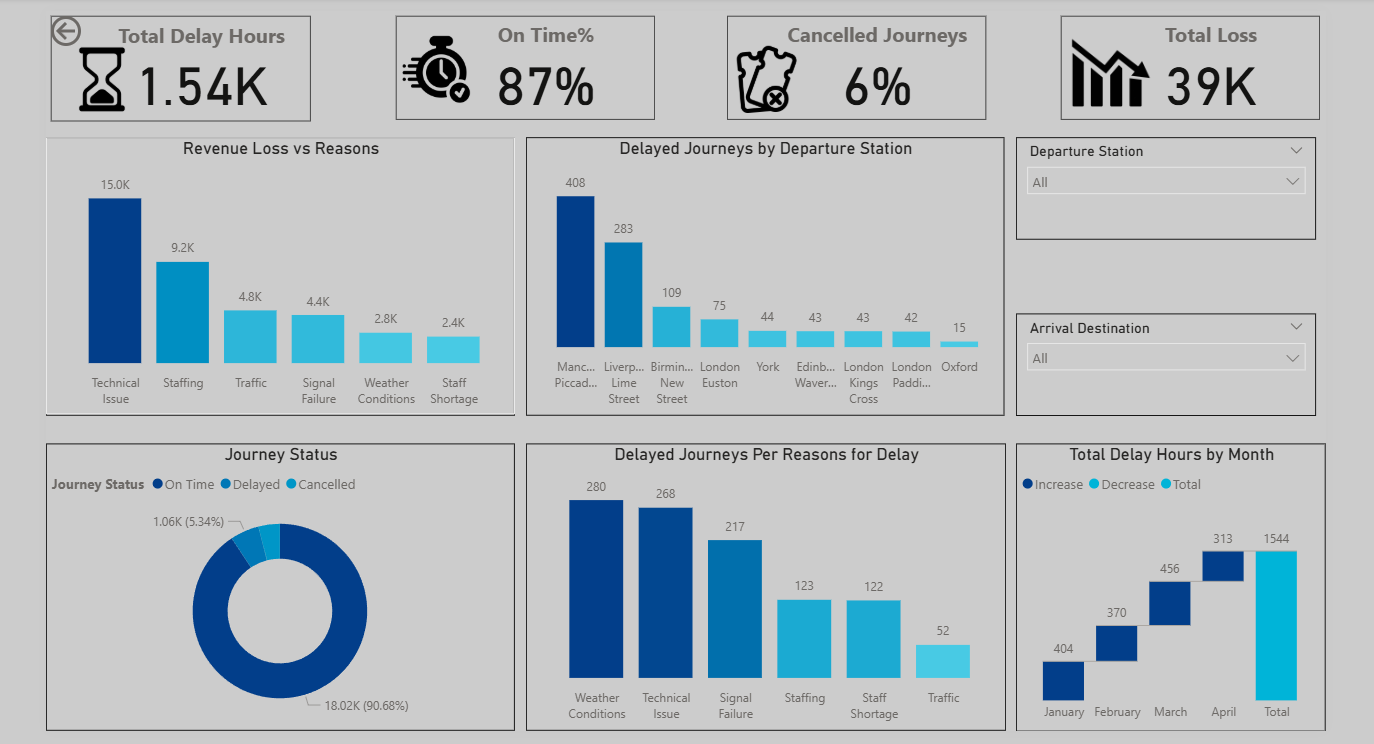

The page's visual inventory and layout, read from the dashboard file:
{"tool":"powerbi","page":{"name":"Operational Performance","canvas":[1280,720],"ordinal":2},"visuals":[{"type":"cardVisual","fields":{"Data":["_Measure.Total Delay Hours"]},"box":[0,0,270,115],"z":0},{"type":"cardVisual","fields":{"Data":["_Measure.% Cancelled Journeys"]},"box":[676.1,0,269.7,114.7],"z":1000},{"type":"cardVisual","fields":{"Data":["_Measure.Total Refund Price"]},"box":[1010.5,0,269.7,114.7],"z":2000},{"type":"columnChart","title":"Revenue Loss vs Reasons","fields":{"Category":["Last.Reason for Delay"],"Y":["_Measure.Total Refund Price"]},"box":[0,125.7,468.7,278.3],"z":3000},{"type":"waterfallChart","fields":{"Y":["_Measure.Total Delay Hours"],"Category":["Last.Date of Journey.Variation.Date Hierarchy.Month"]},"box":[970.3,432,310,288],"z":4000},{"type":"columnChart","title":"Delayed Journeys Per Reasons for Delay","fields":{"Category":["Last.Reason for Delay"],"Y":["_Measure.Delayed Journeys"]},"box":[479.6,432,479.6,286.8],"z":5000},{"type":"donutChart","title":"Journey Status","fields":{"Category":["Last.Journey Status"],"Y":["Count(Last.Journey ID)"]},"box":[0,432,468.7,286.8],"z":6000},{"type":"columnChart","fields":{"Category":["Last.Departure Station"],"Y":["_Measure.Delayed Journeys"]},"box":[479.6,125.7,478.4,278.3],"z":7000},{"type":"cardVisual","fields":{"Data":["Last.On Time%"]},"box":[345.4,0,269.7,114.7],"z":8000},{"type":"image","box":[345.4,8.5,90.3,98.9],"z":9000},{"type":"image","box":[0,30.5,112.3,76.9],"z":10000},{"type":"slicer","fields":{"Values":["Last.Departure Station"]},"box":[970.3,125.7,300.2,102.5],"z":11000},{"type":"slicer","fields":{"Values":["Last.Arrival Destination"]},"box":[970.3,302.7,300.2,102],"z":12000},{"type":"actionButton","box":[0,0,100,40],"z":13000},{"type":"image","box":[676.1,30.5,89.1,76.9],"z":14000},{"type":"image","box":[914.1,0,300.2,126.9],"z":15000}]}

Visuals, with their boxes on the page's 1280x720 design canvas (x1, y1, x2, y2). These are canvas units, not pixel positions in the 1374x744 screenshot, which may show the page scaled, cropped or inside an application window:
cardVisual - _Measure.Total Delay Hours: crop(0, 0, 270, 115)
cardVisual - _Measure.% Cancelled Journeys: crop(676, 0, 946, 115)
cardVisual - _Measure.Total Refund Price: crop(1010, 0, 1280, 115)
"Revenue Loss vs Reasons" columnChart: crop(0, 126, 469, 404)
waterfallChart - _Measure.Total Delay Hours x Last.Date of Journey.Variation.Date Hierarchy.Month: crop(970, 432, 1280, 720)
"Delayed Journeys Per Reasons for Delay" columnChart: crop(480, 432, 959, 719)
"Journey Status" donutChart: crop(0, 432, 469, 719)
columnChart - Last.Departure Station x _Measure.Delayed Journeys: crop(480, 126, 958, 404)
cardVisual - Last.On Time%: crop(345, 0, 615, 115)
image: crop(345, 8, 436, 107)
image: crop(0, 30, 112, 107)
slicer - Last.Departure Station: crop(970, 126, 1270, 228)
slicer - Last.Arrival Destination: crop(970, 303, 1270, 405)
actionButton: crop(0, 0, 100, 40)
image: crop(676, 30, 765, 107)
image: crop(914, 0, 1214, 127)
